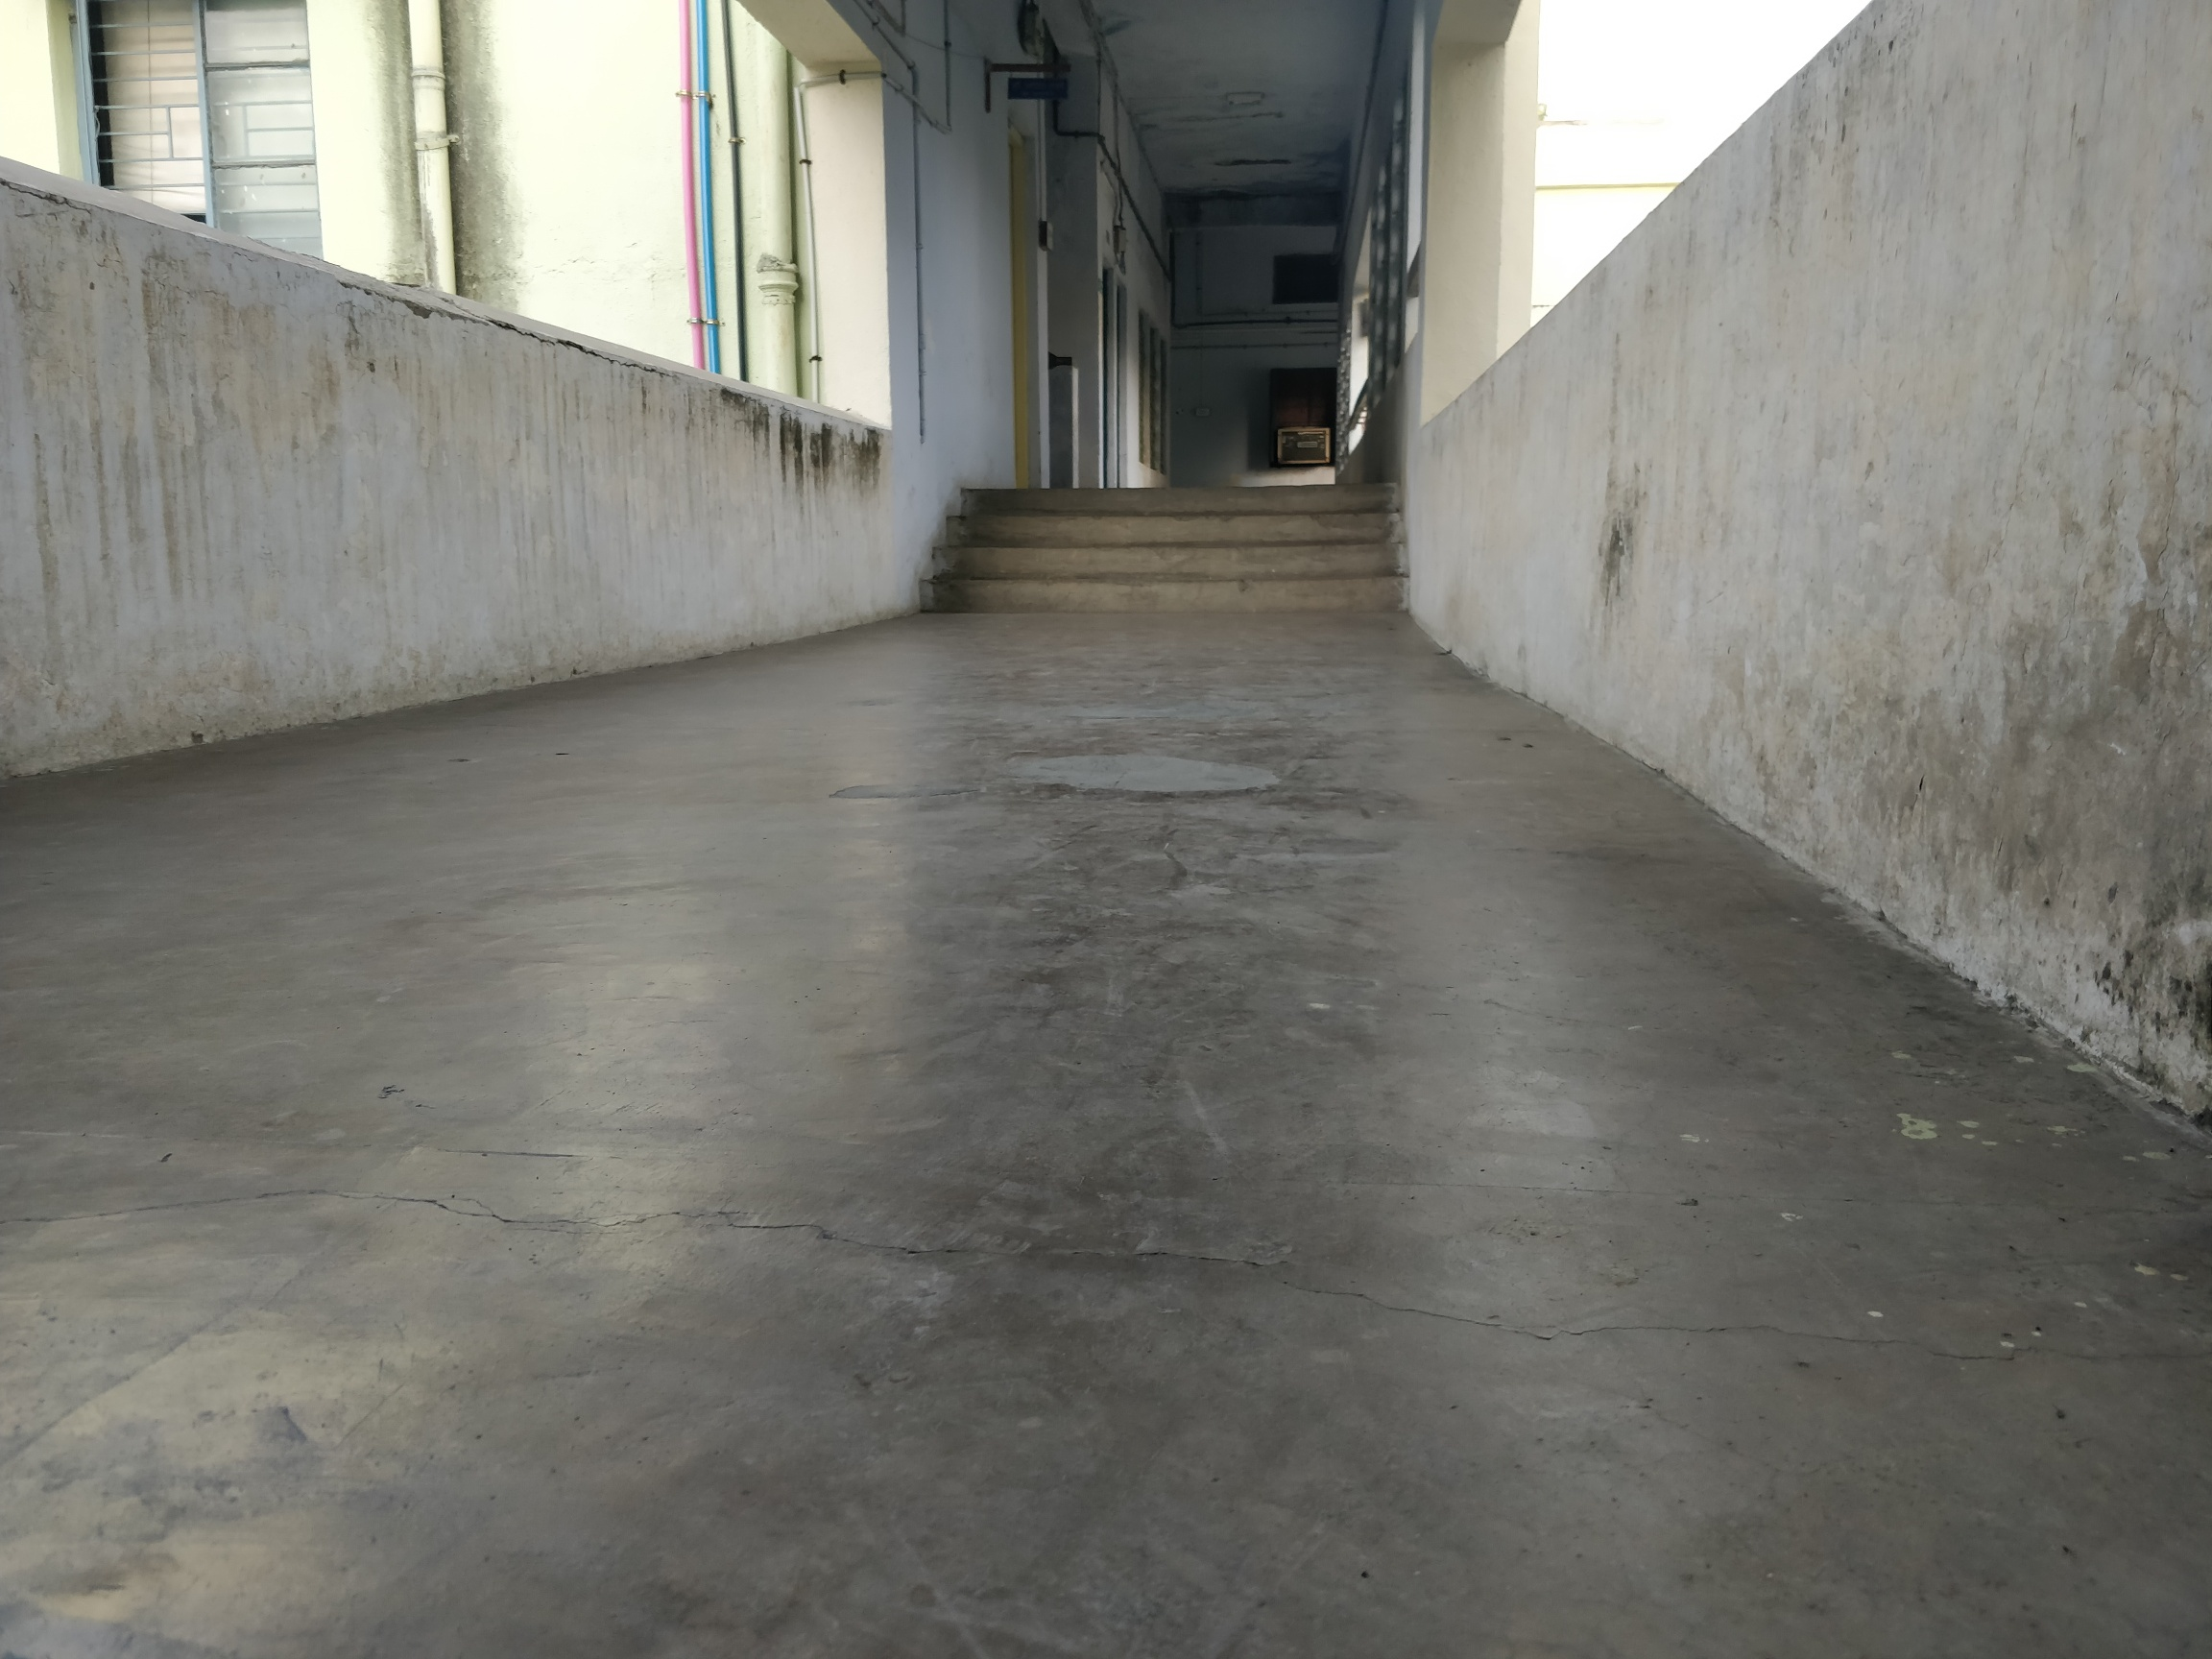stairs_up: (923, 477, 1411, 627)
